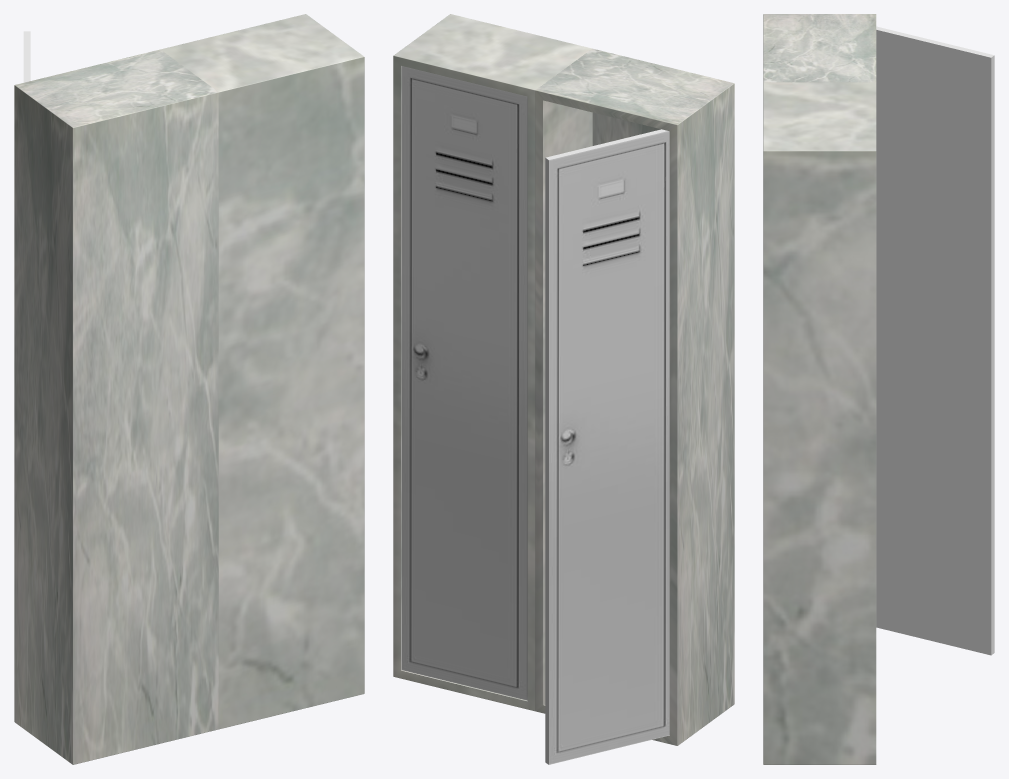
The model's file is locker.fbx.
3 views of the same model, side by side, from view 1: azimuth 30°, elevation 25°; view 2: azimuth 150°, elevation 25°; view 3: azimuth 270°, elevation 25° (orthographic). The views are drawn at different scales.
Parts seen in each view (by area): view 1: Locker Frame001, Locker Frame; view 2: Locker Door, Locker Door001, Locker Frame001, Locker Frame; view 3: Locker Frame, Locker Door001, Locker Frame001.
Part boxes in pixels (<box>): Locker Frame001: <box>14,49,218,764</box>; Locker Frame: <box>160,14,364,729</box>; Locker Door: <box>401,66,527,700</box>; Locker Door001: <box>545,129,669,764</box>; Locker Frame001: <box>535,48,734,745</box>; Locker Frame: <box>393,14,592,711</box>; Locker Frame: <box>763,82,876,764</box>; Locker Door001: <box>876,26,994,655</box>; Locker Frame001: <box>763,14,876,82</box>.
Bounding box in the file's own units: 71.85 × 150 × 51.18.
Materials: 3 (3 with a texture image).
